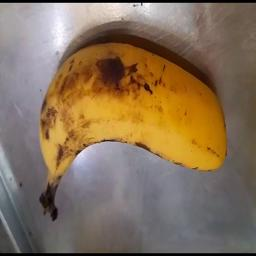Banana Semirotten: (24, 36, 227, 207)
